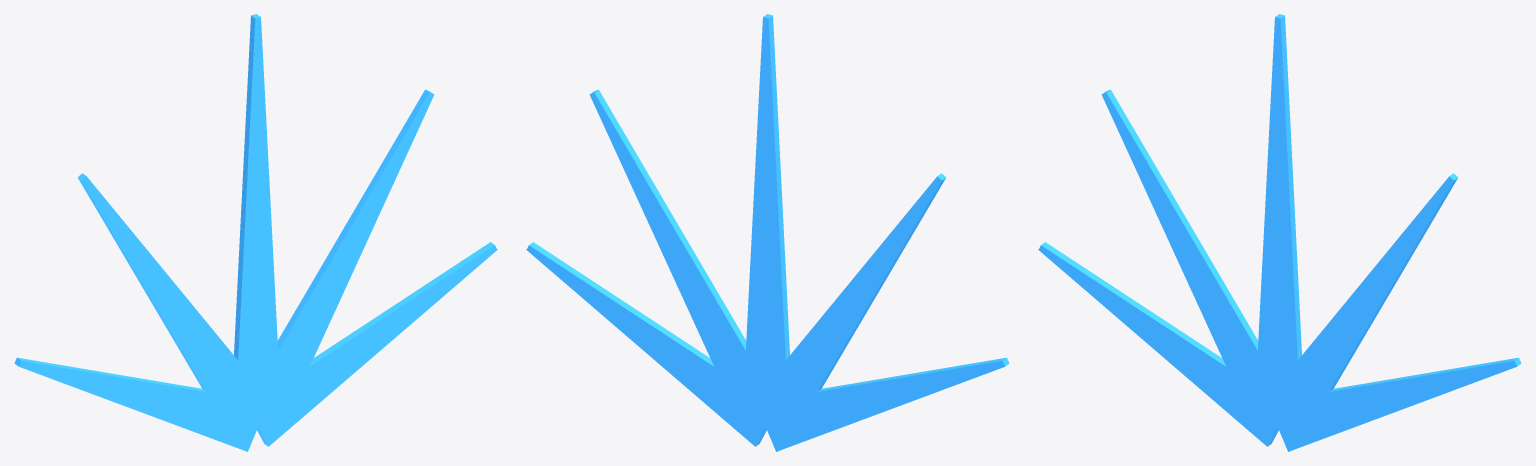
The model's file is dc_glitch_fan_core.glb.
3 views of the same model, side by side, from view 1: azimuth 30°, elevation 25°; view 2: azimuth 150°, elevation 25°; view 3: azimuth 330°, elevation 25° (orthographic).
Parts seen in each view (by area): view 1: part.dc_glitch_fan_core; view 2: part.dc_glitch_fan_core; view 3: part.dc_glitch_fan_core.
Boxes of the visible parts, <box> form: part.dc_glitch_fan_core: <box>14,14,497,451</box>; part.dc_glitch_fan_core: <box>526,14,1009,451</box>; part.dc_glitch_fan_core: <box>1038,14,1521,451</box>.
Bounding box in the file's own units: 0.7589 × 0.6537 × 0.012.
